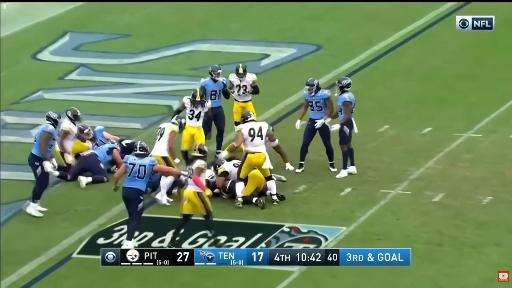Helmet: (191, 87, 205, 107), (45, 111, 61, 128), (222, 180, 235, 199), (78, 124, 94, 139), (134, 141, 149, 157), (306, 78, 320, 95), (171, 116, 185, 133), (66, 108, 81, 123), (337, 77, 351, 91), (192, 144, 207, 157), (209, 65, 222, 79), (211, 159, 224, 173), (235, 64, 247, 79), (241, 111, 255, 123), (110, 139, 122, 153)
Jersey: (123, 156, 157, 192), (237, 122, 269, 152), (151, 123, 178, 156), (32, 124, 57, 157), (183, 97, 210, 127), (229, 73, 256, 102), (304, 90, 330, 119), (200, 78, 226, 107), (57, 119, 77, 151), (94, 143, 118, 168), (187, 160, 206, 191), (338, 92, 355, 120), (218, 160, 241, 180), (71, 140, 94, 157), (93, 126, 108, 148), (206, 170, 216, 185)
Player: (114, 142, 180, 248), (222, 112, 278, 205), (168, 144, 214, 247), (296, 79, 337, 172), (25, 112, 60, 217), (52, 142, 122, 187), (173, 87, 210, 165), (200, 65, 230, 154), (331, 77, 356, 178), (228, 64, 259, 127), (150, 116, 185, 167), (55, 108, 81, 170), (236, 170, 267, 209), (266, 139, 293, 170), (71, 124, 93, 161), (216, 160, 241, 187), (90, 126, 119, 148), (116, 139, 136, 158)
